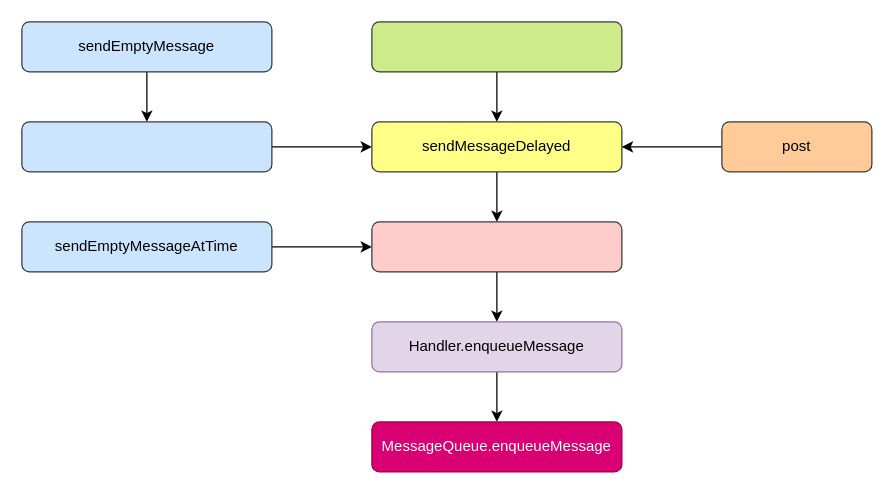
Image size: 894x494. Some labels were removed from this diagram. Each missing label, with the centre of its shape:
sendEmptyMessageDelayed: pixel 146 146
sendMessage: pixel 496 46
sendMessageAtTime: pixel 496 246
